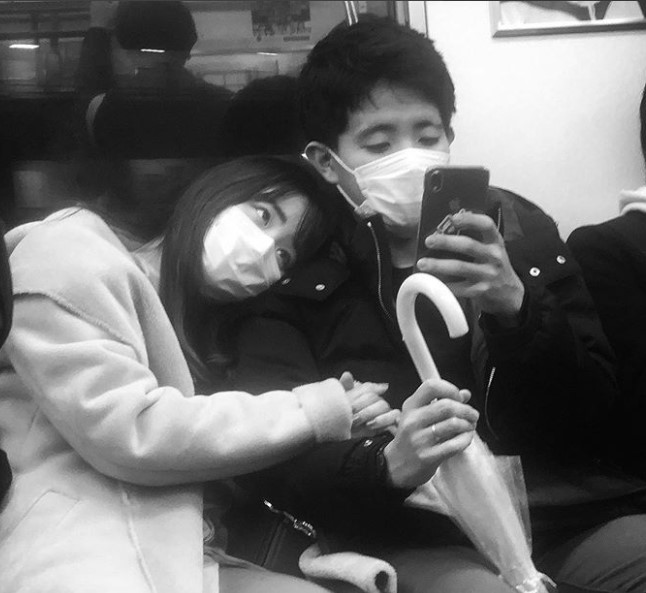face_with_mask: (298, 22, 455, 238), (187, 157, 320, 305)
